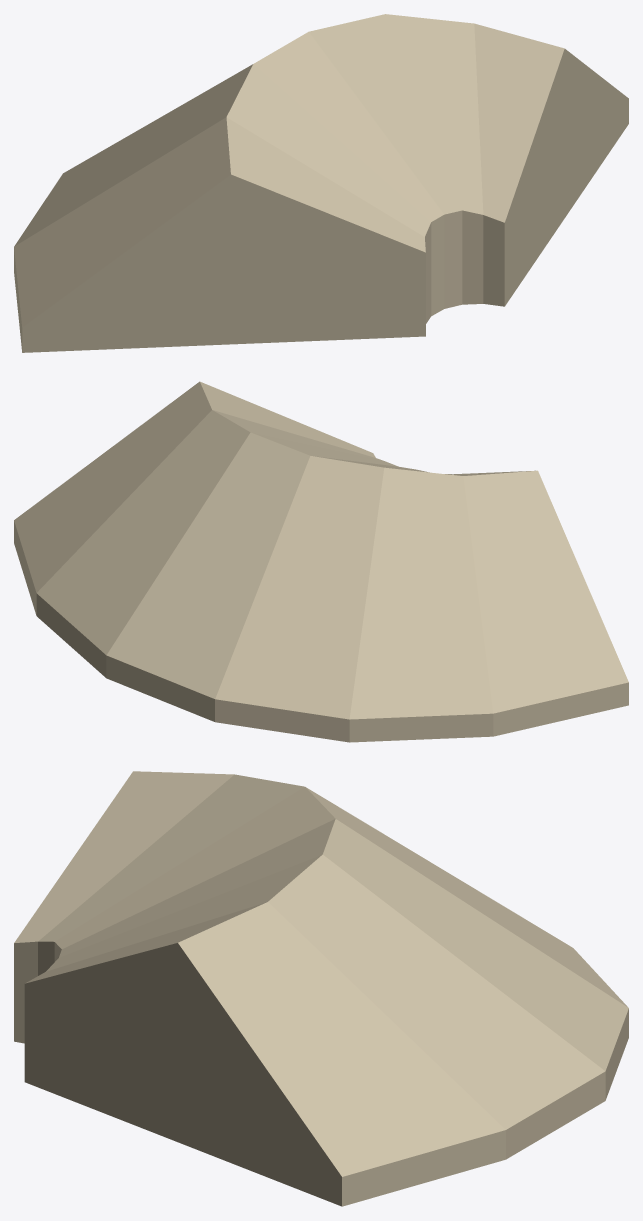
File: detail_001a_fan_shell.glb
The picture shows the model from 3 angles, top to bottom: view 1: azimuth 30°, elevation 25°; view 2: azimuth 150°, elevation 25°; view 3: azimuth 270°, elevation 25°; orthographic projection. The views are drawn at different scales.
Visible parts, largest first — view 1: detail_001a_fan_shell__mesh; view 2: detail_001a_fan_shell__mesh; view 3: detail_001a_fan_shell__mesh.
Part boxes in pixels (x1,y1,x2,y2): detail_001a_fan_shell__mesh: [14, 14, 628, 352]; detail_001a_fan_shell__mesh: [14, 381, 628, 742]; detail_001a_fan_shell__mesh: [14, 771, 628, 1206].
Size of the model in its own units: 0.1593 by 0.0533 by 0.1127.
